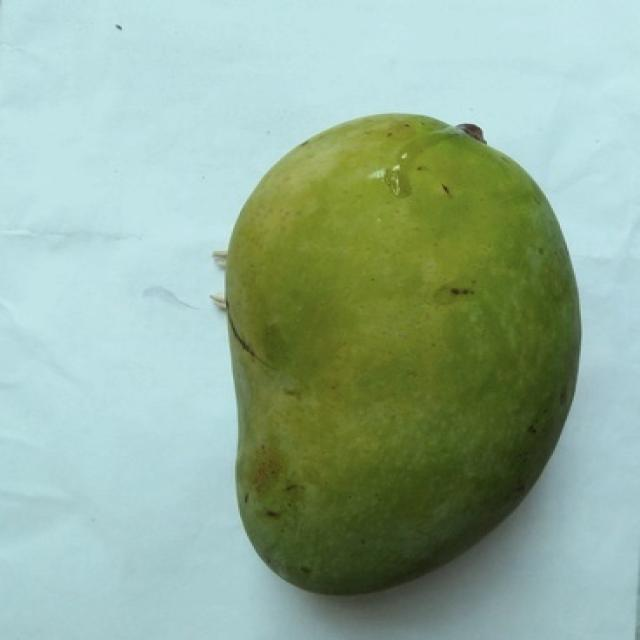Mango: (224, 114, 579, 594)
